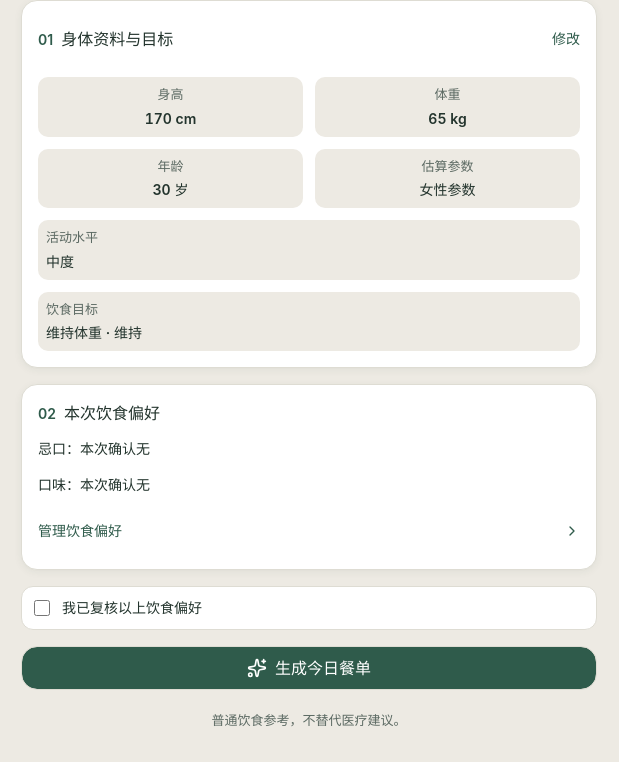
Test: PlanPage › contains ambiguous selection, makes permitted relaxation transparent, and never exposes raw feedback or internal IDs
Expected: the text "170 cm" is shown, left=145, top=110, right=196, bottom=126
Click the checkbox labelled "我已复核以上饮食偏好": (42, 608) left=34, top=600, right=50, bottom=616
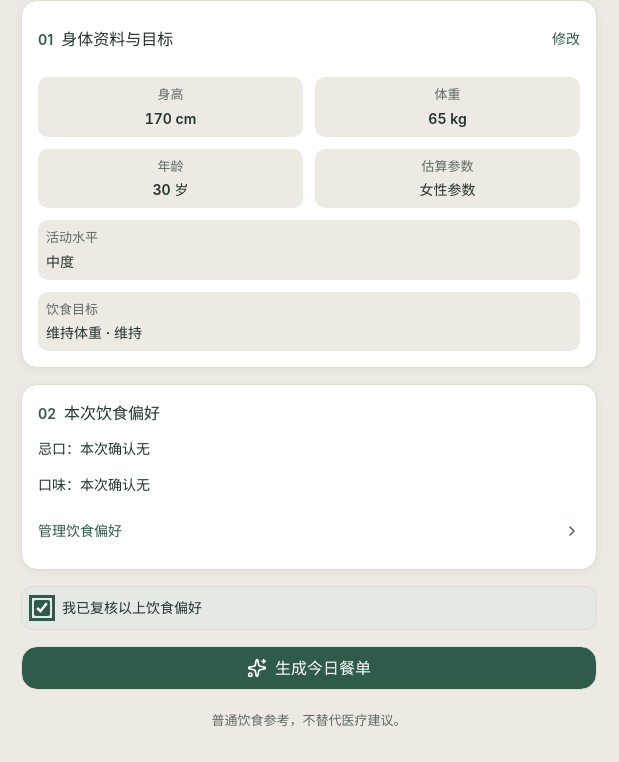
Click the button "生成今日餐单": (309, 668) left=21, top=646, right=597, bottom=690
(page scrolled)
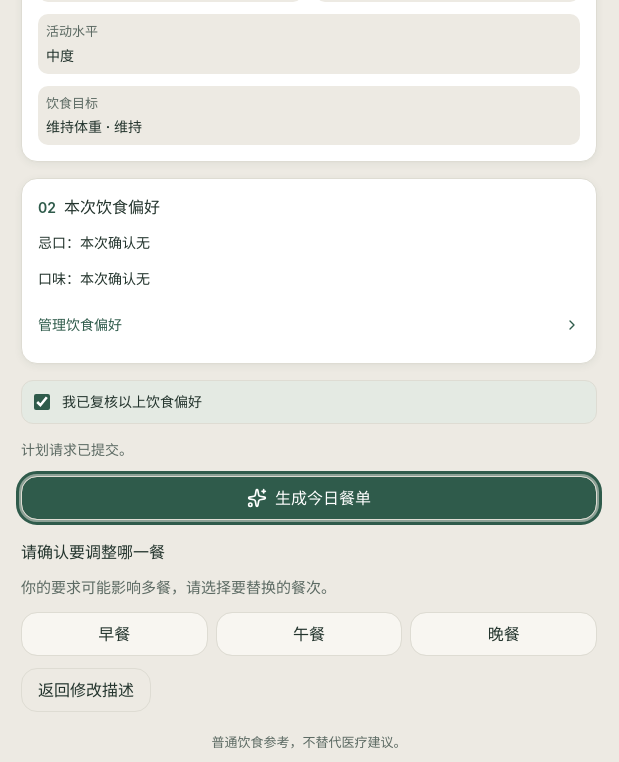
Now the heading "请确认要调整哪一餐" is shown, box left=21, top=542, right=165, bottom=562
Now the number of buttons "早餐" is 3
Click the button "午餐": (309, 634) left=216, top=612, right=402, bottom=656
(page scrolled)
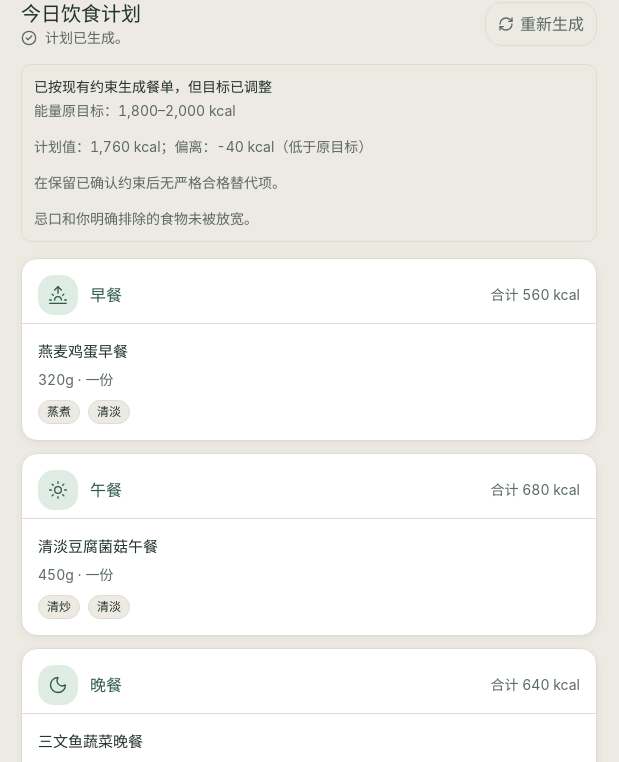
Now the text "已按现有约束生成餐单，但目标已调整" shows "能量", box left=34, top=102, right=62, bottom=119
Now the text "已按现有约束生成餐单，但目标已调整" shows "1,800–2,000 kcal", box left=118, top=102, right=236, bottom=119
Now the text "已按现有约束生成餐单，但目标已调整" shows "1,760 kcal", box left=21, top=64, right=597, bottom=242
